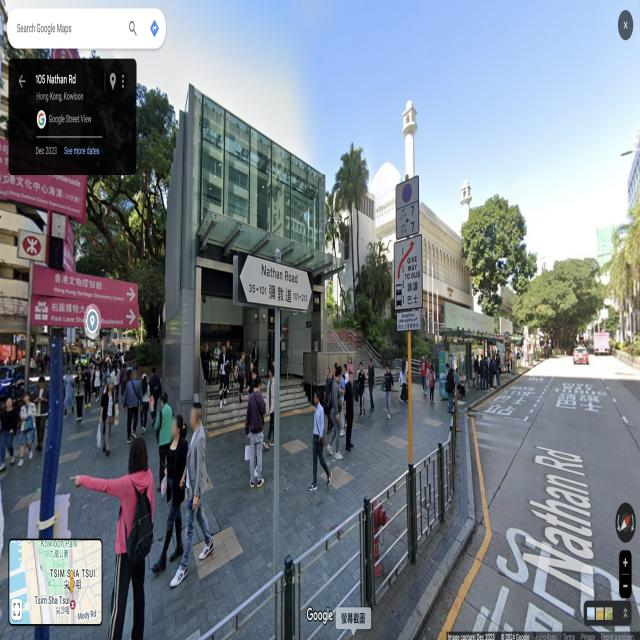Order-Sign: (395, 234, 423, 309), (396, 175, 420, 239), (397, 309, 421, 332)
Street-Direction-Sign: (238, 251, 313, 312)
